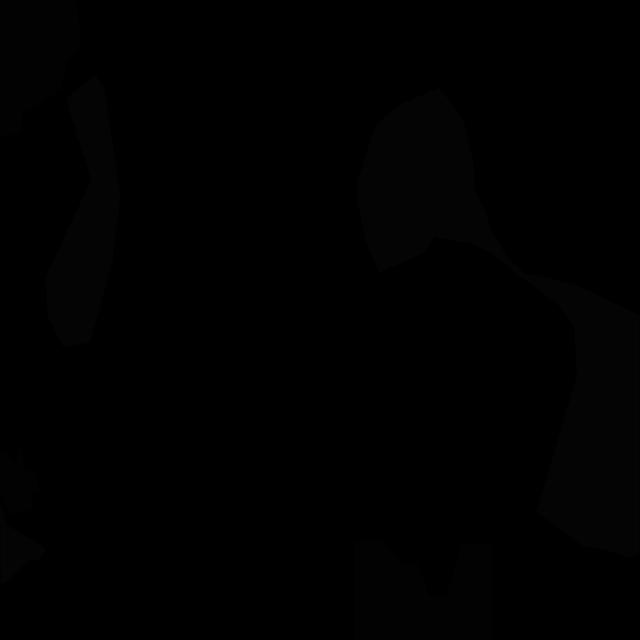cardboard: (354, 540, 492, 640), (0, 443, 41, 515)
soft_plastic: (357, 87, 640, 558), (46, 74, 120, 348), (0, 502, 46, 583)
